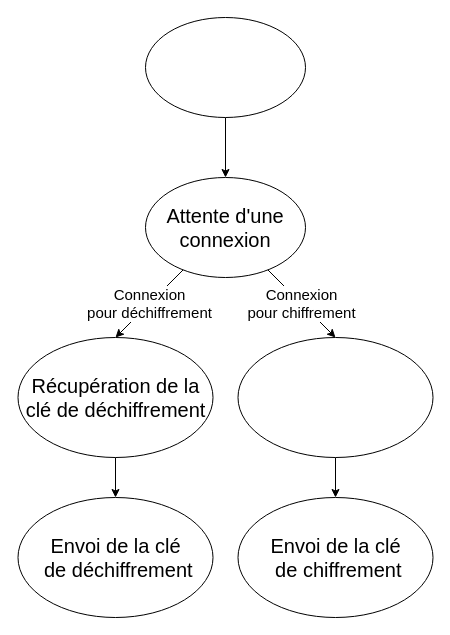
The diagram is 450 pixels wide and 635 high, and some of its shapes have lost their labels. The centre of each missing label's shape, as x and y in pixels:
"Création d'une paire de clé" belongs at point 335,397.
"Début" belongs at point 225,67.
